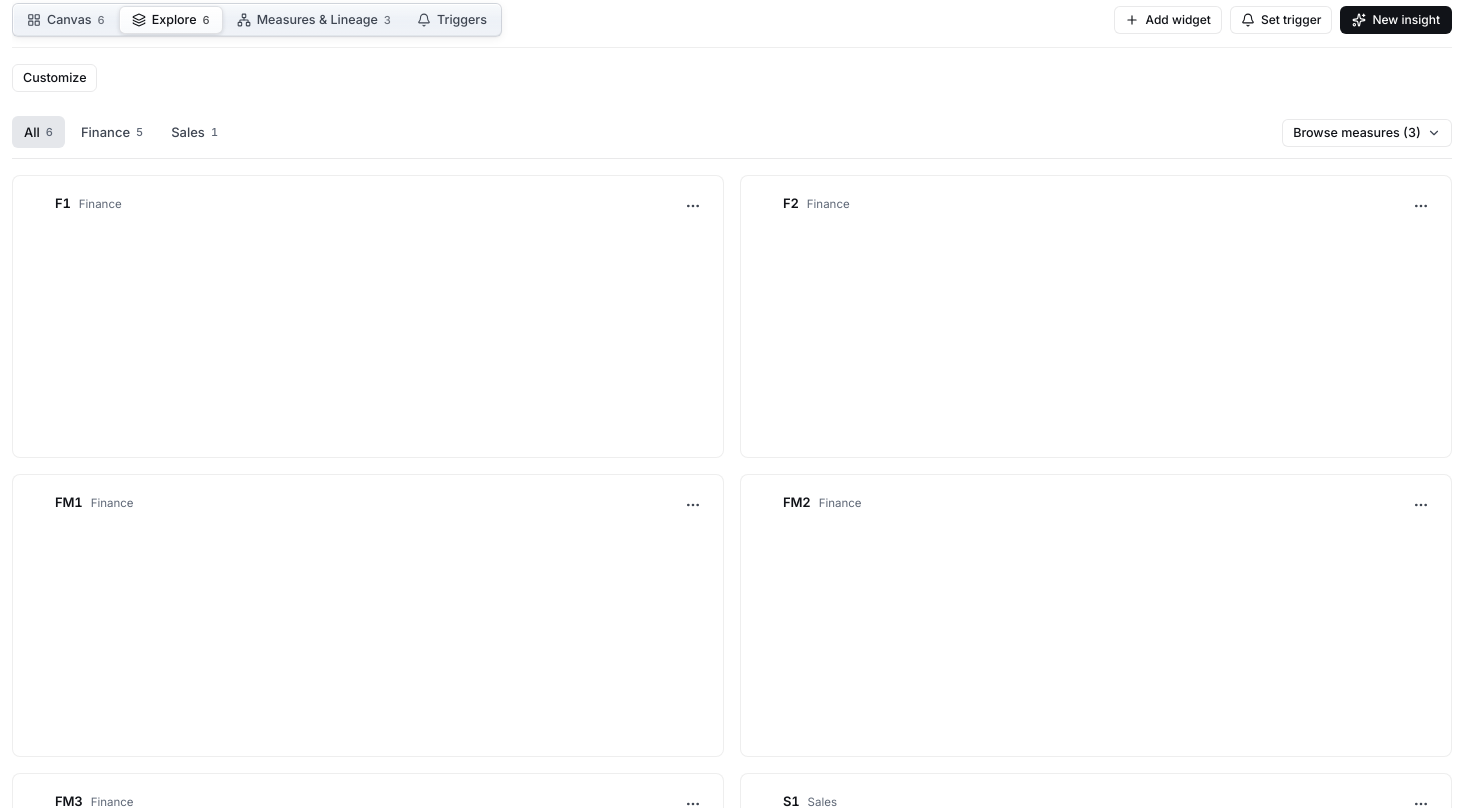
Test: multi-panel chart counts and category breakdown › clarifies charts vs measures breakdown when a category tab combines both
The image size is (1464, 808).
Click the tab "Finance 5": (112, 132) [69,116,155,148]
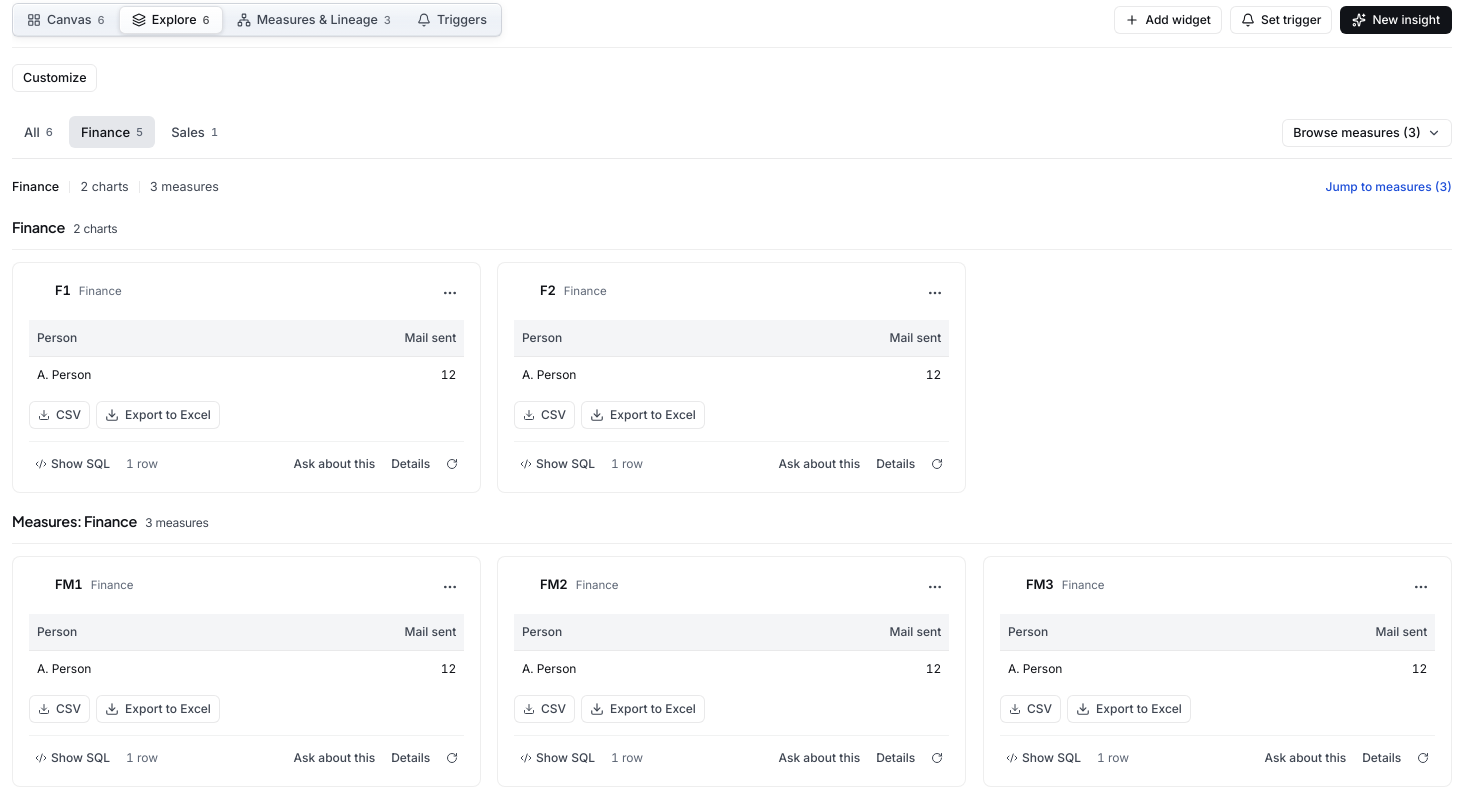
Expected: the element with test id "category-breakdown" shows "2 charts", [12,175,1452,199]
Expected: the element with test id "category-breakdown" shows "3 measures", [12,175,1452,199]
Expected: the element with test id "category-breakdown" shows "Jump to measures (3)", [12,175,1452,199]
